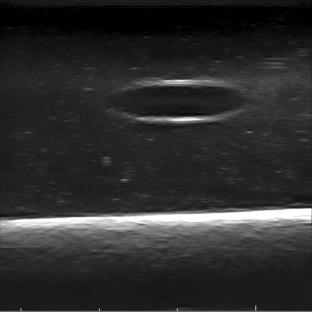vessel: (107, 79, 247, 125)
